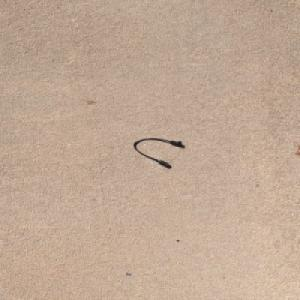Wire: (131, 137, 182, 167)
